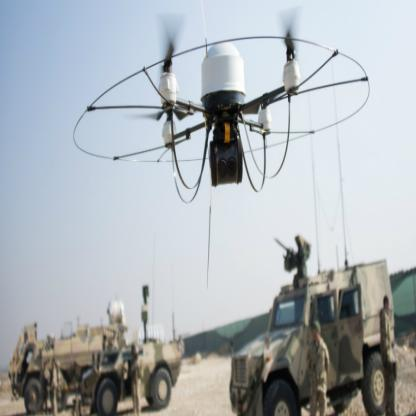drone: (117, 15, 356, 188)
